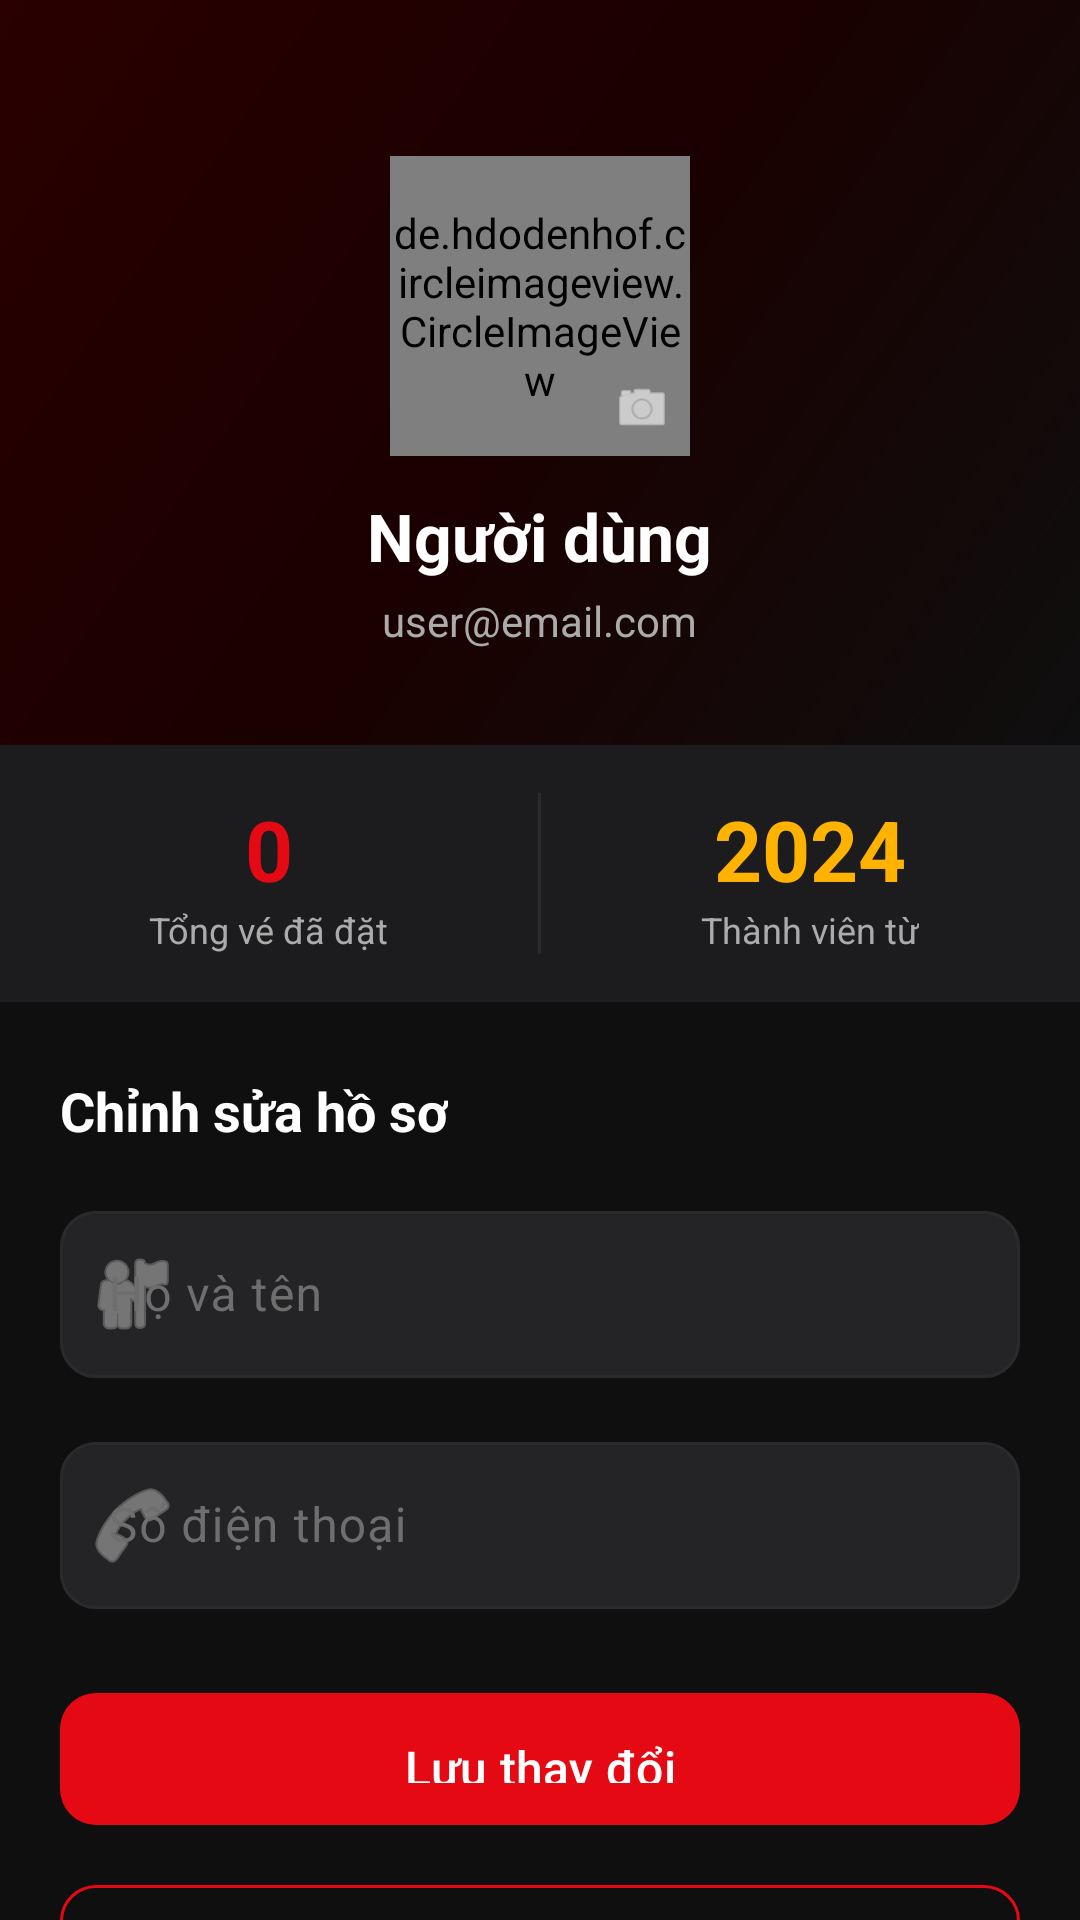

Named icons in this screenshot (1080 x 1920) and their bounding boxes, box(x1, y1, x2, y2):
Thay ảnh đại diện: box(619, 389, 665, 425)
